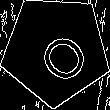O_NW: (24, 17, 88, 83)
